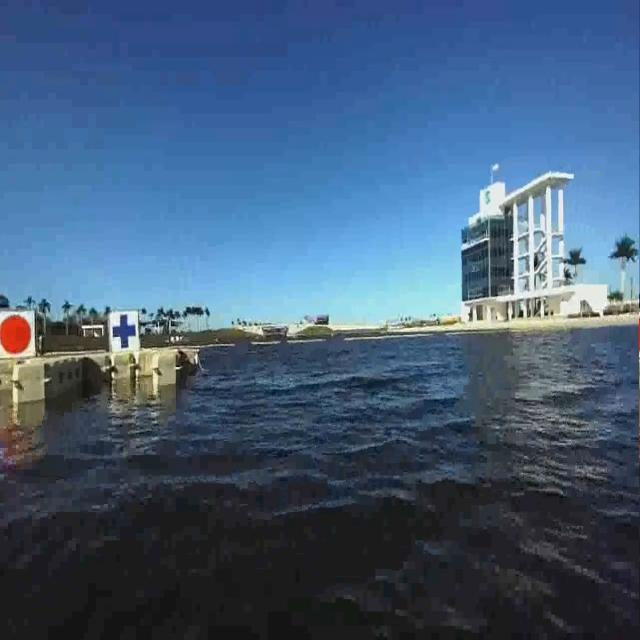blue-cross: (106, 307, 141, 356)
red-dot: (0, 308, 39, 359)
